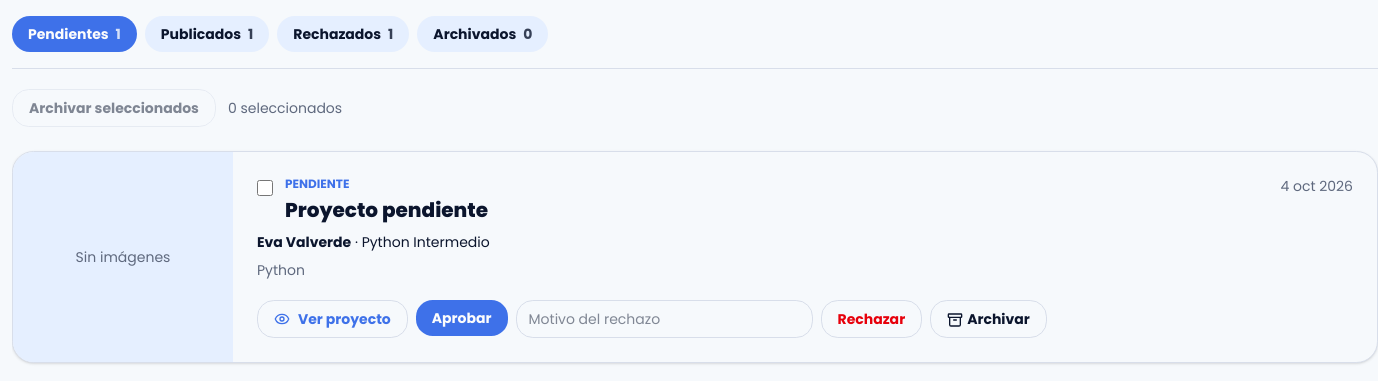
Test case: AdminProjectModeration › cambia a una sola categoría y conserva proyectos sin curso ni imágenes
The width and height of the screenshot is (1378, 381).
What coordinates should you click on to do the following:
click the tab "Publicados 1"
I would click on:
 (207, 34)
Its box is [145,16,269,52].
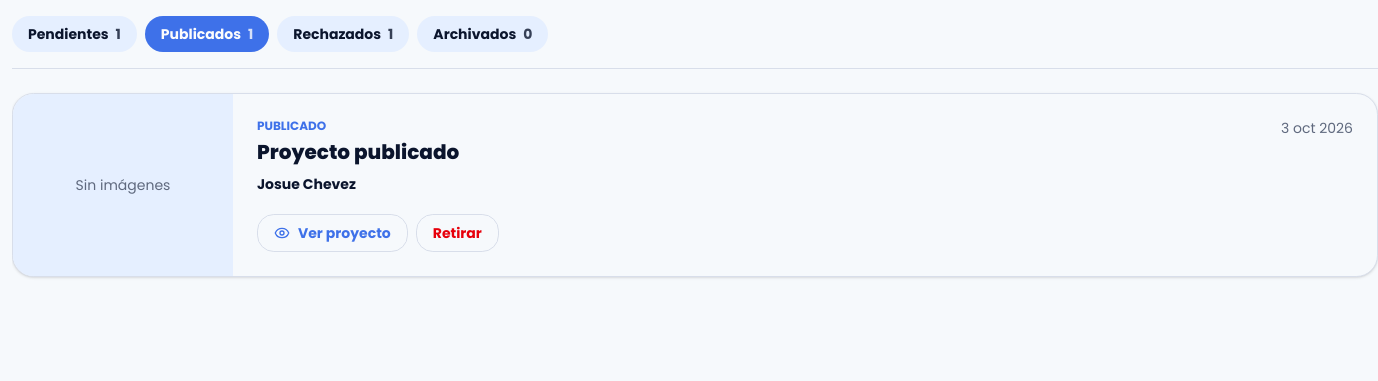
Check: the text "Sin imágenes" is shown, box [76,175,170,195]
Check: the heading "Proyecto pendiente" is gone
